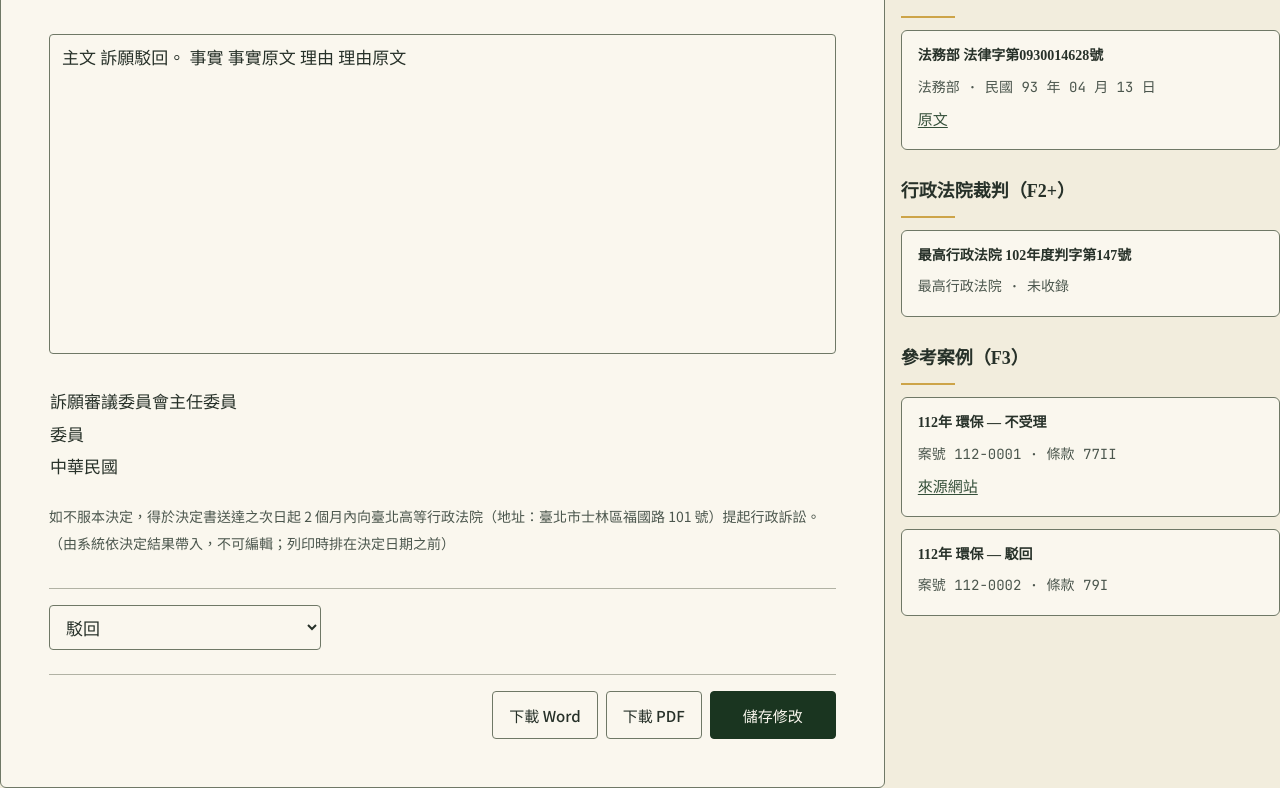
Test case: 決定書版面 › 沒有修改時儲存鍵不改色,點了說沒有可儲存的修改
(page scrolled)
Click the button "儲存修改" at (773, 716), box [710,692,836,740]
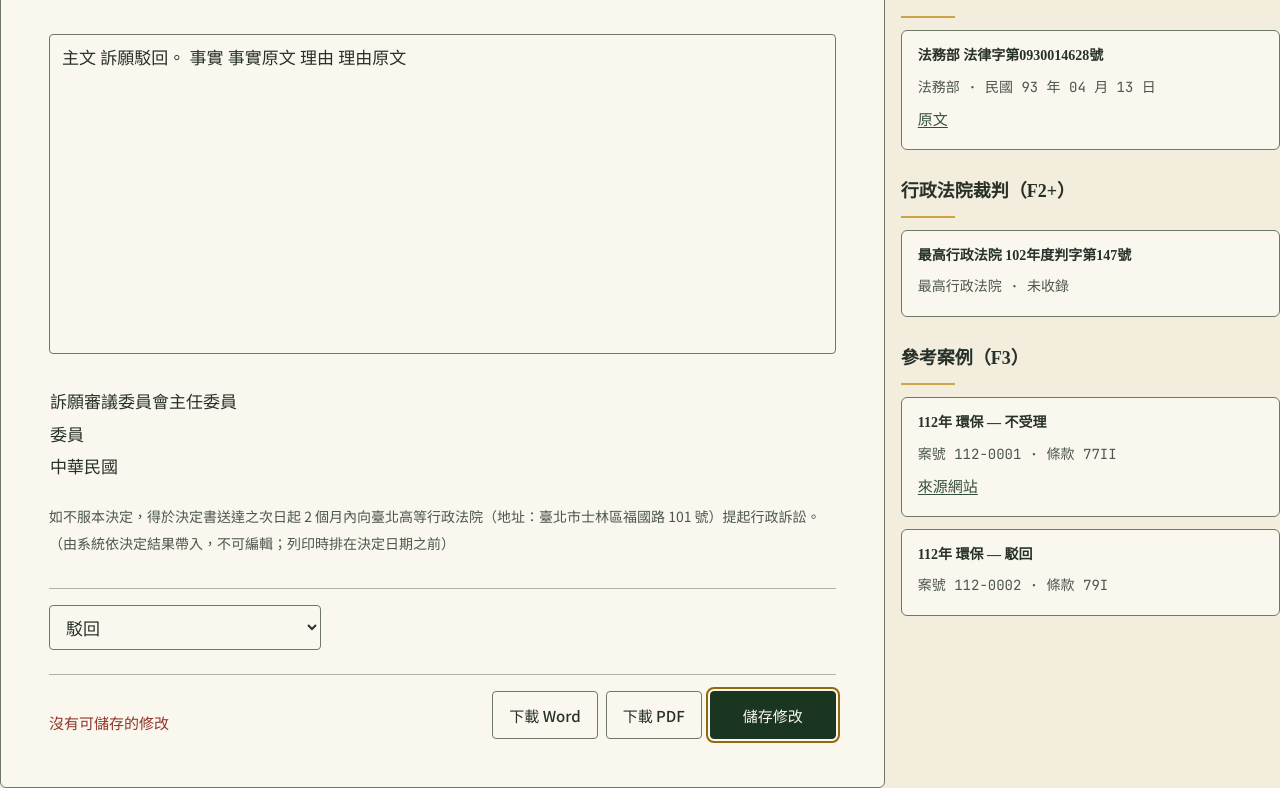
Expected: the text "沒有可儲存的修改" is shown, [49,709,169,738]
